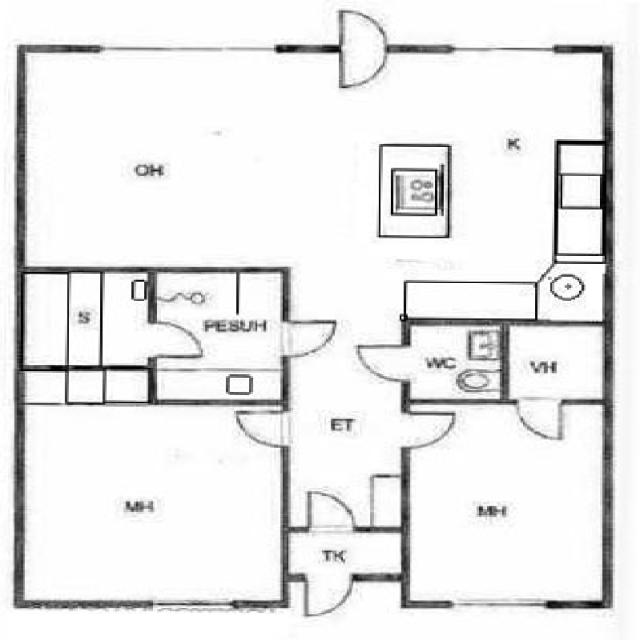door: (328, 0, 389, 101), (261, 310, 343, 363), (140, 312, 206, 364), (354, 340, 424, 385), (227, 405, 294, 449), (404, 408, 464, 457), (509, 394, 566, 444), (301, 486, 360, 534), (303, 572, 354, 621)
window: (77, 32, 288, 65), (431, 593, 561, 621), (433, 37, 564, 61), (140, 594, 244, 616)
zone: (27, 52, 386, 269), (11, 378, 284, 610), (385, 44, 608, 321), (404, 398, 610, 606), (152, 266, 284, 409), (17, 274, 162, 367), (501, 320, 609, 404), (400, 322, 508, 405)
